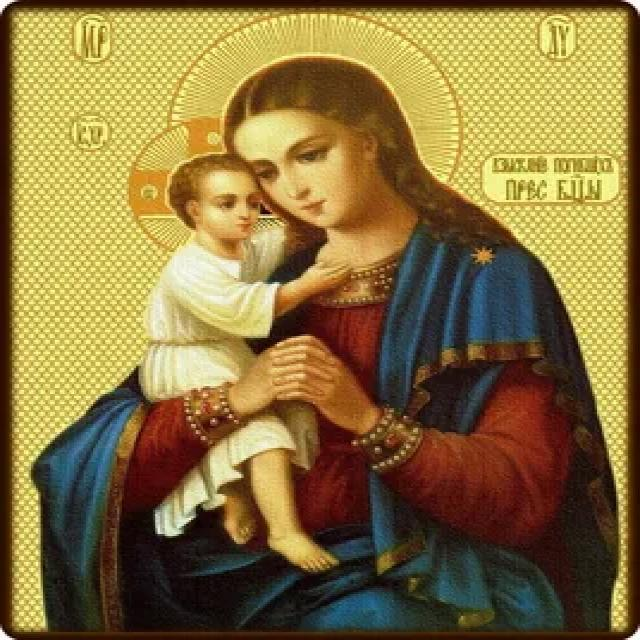mother of god: (33, 50, 638, 640)
